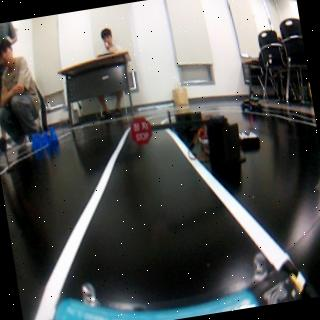stop: (128, 115, 154, 146)
